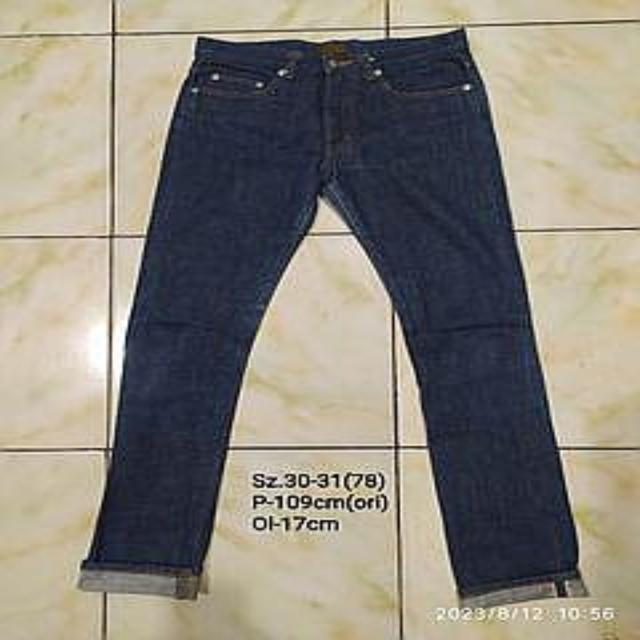TROUSER: (62, 17, 610, 612)
